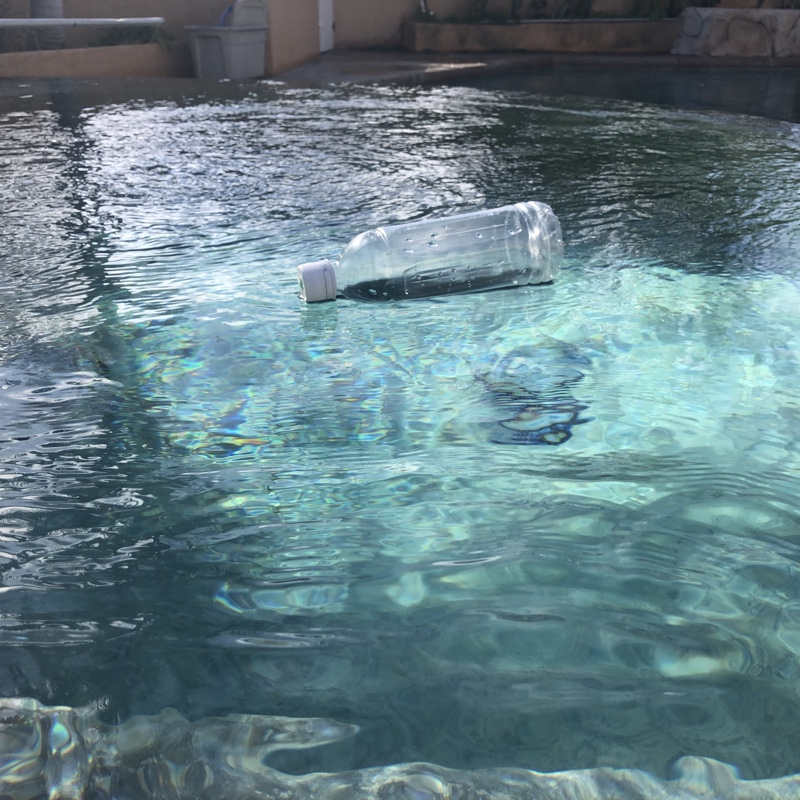Plastic Bottle: (293, 197, 567, 309)
